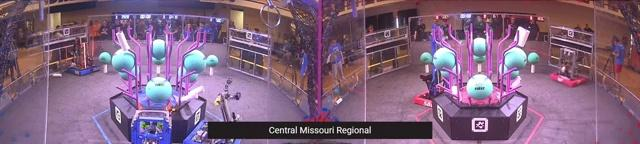robot: (185, 77, 243, 144), (548, 47, 587, 89), (70, 34, 101, 77), (132, 109, 169, 144), (415, 73, 443, 108)
